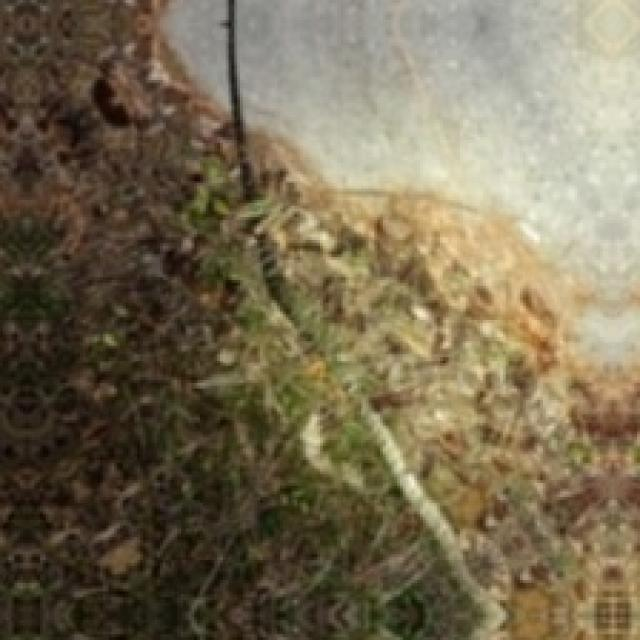king cobra: (134, 131, 637, 637), (120, 31, 223, 240)
